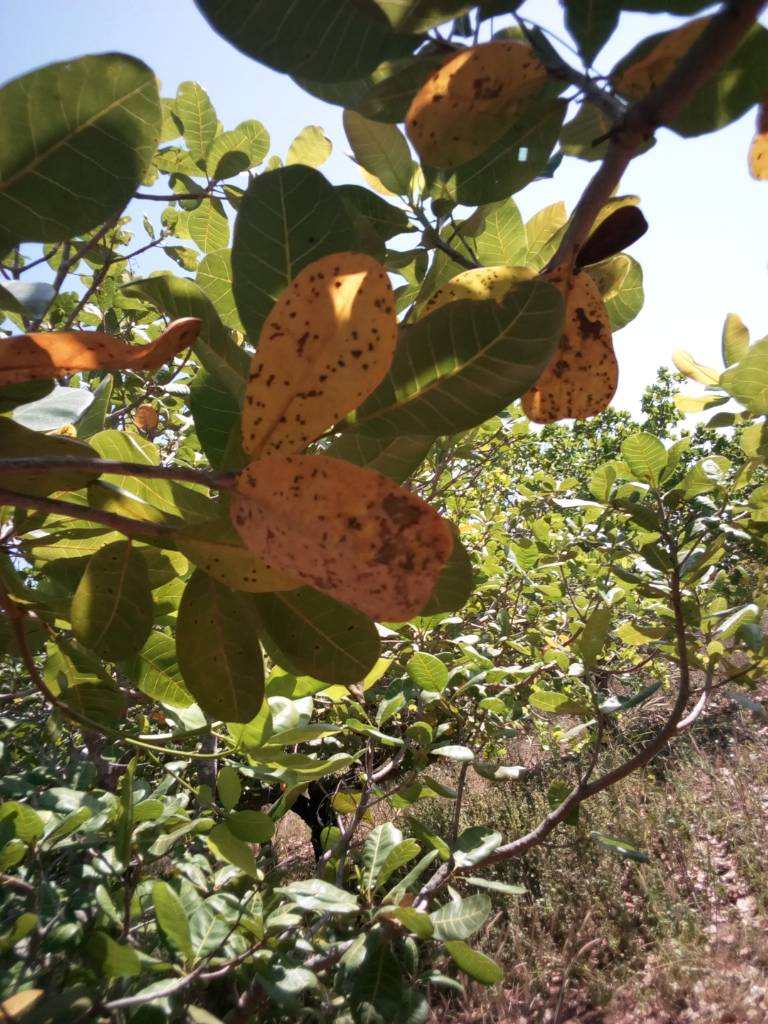Bactériose: (230, 455, 455, 624), (240, 250, 394, 452), (405, 44, 547, 167), (552, 275, 615, 413)
